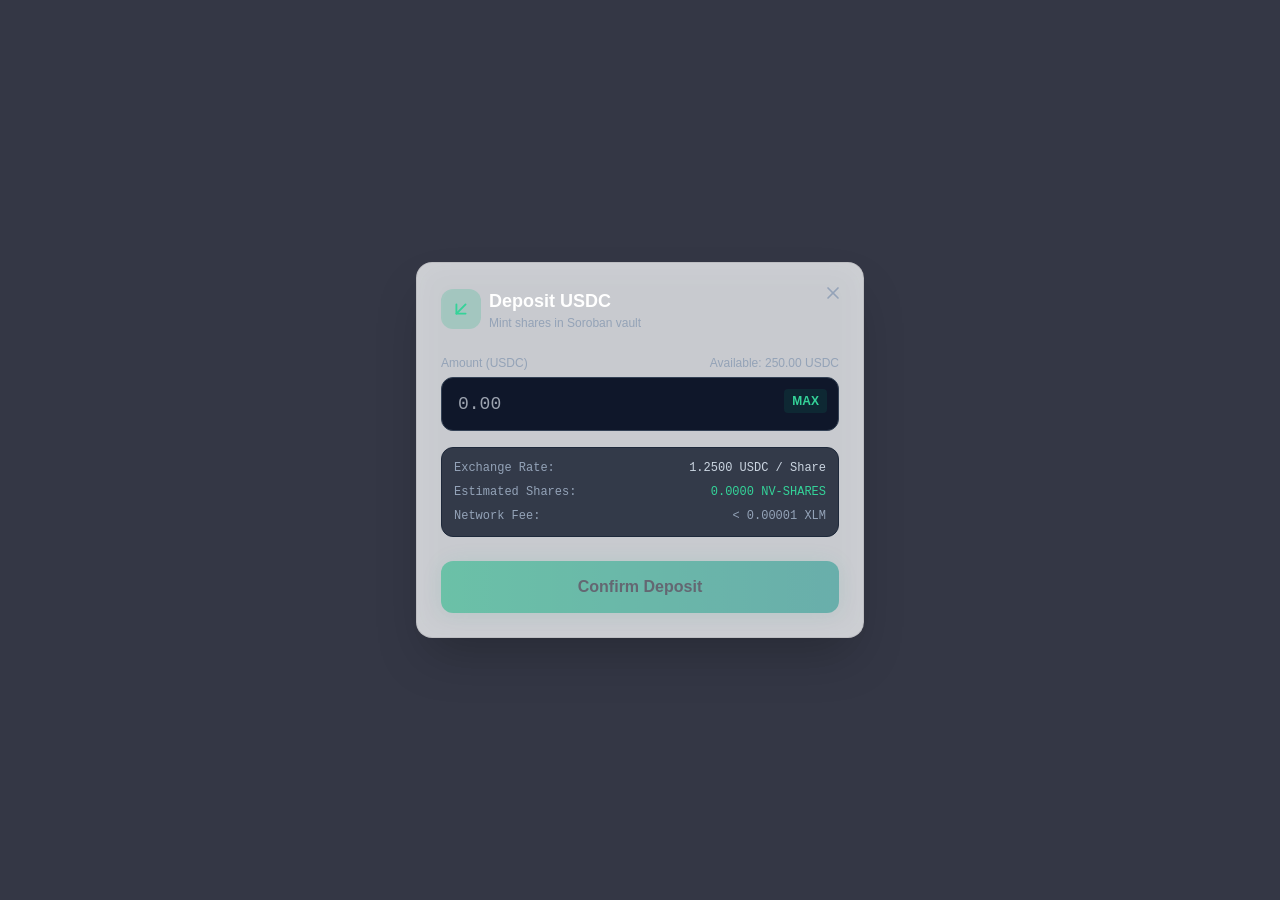
Test case: ActionModal › shows network-switch guidance for a wrong-network wallet error
Type "25" into the number field with placeholder "0.00".
click(640, 404); type("25")  # box [441, 377, 839, 431]
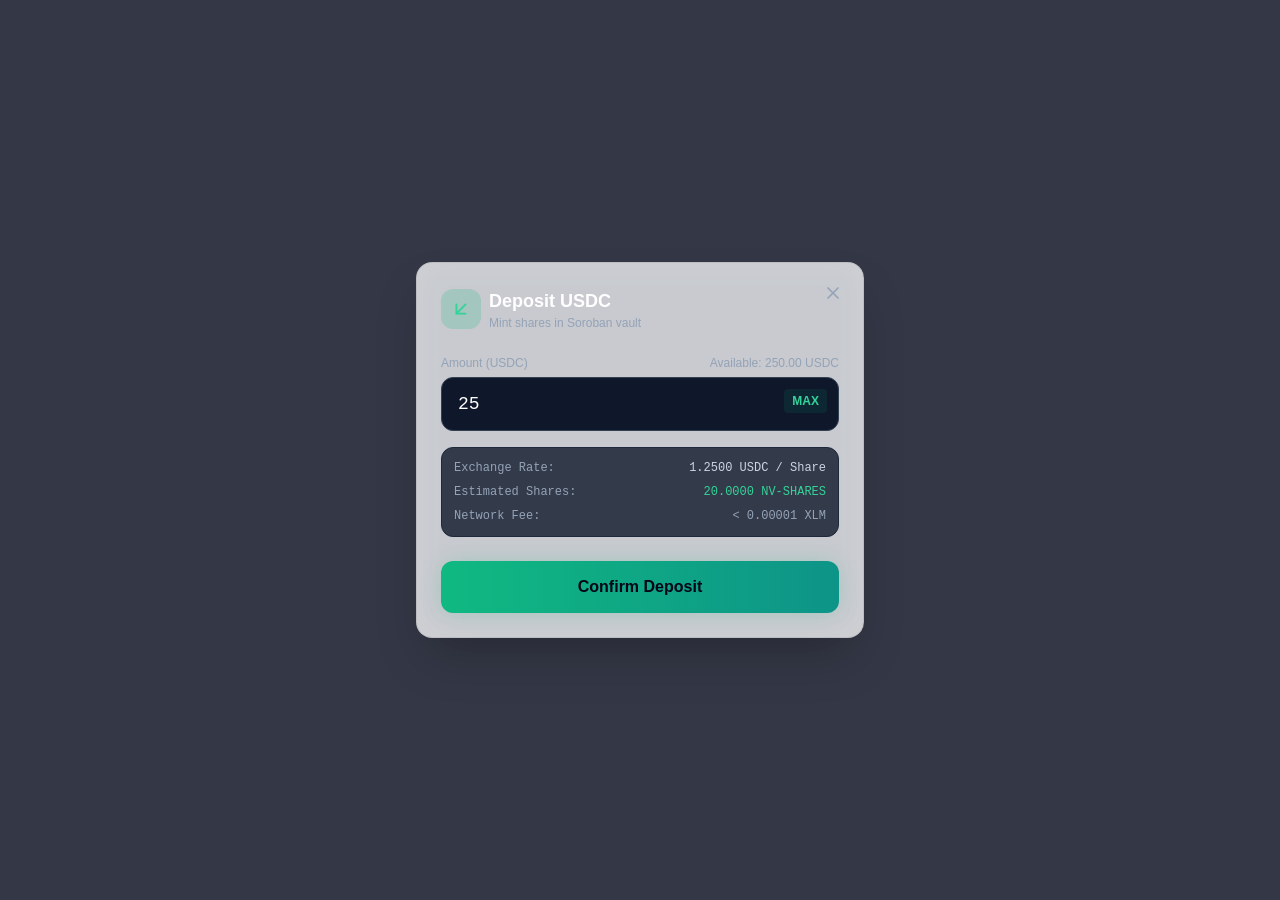
Submit the form named "confirm deposit", box [441, 287, 839, 613]
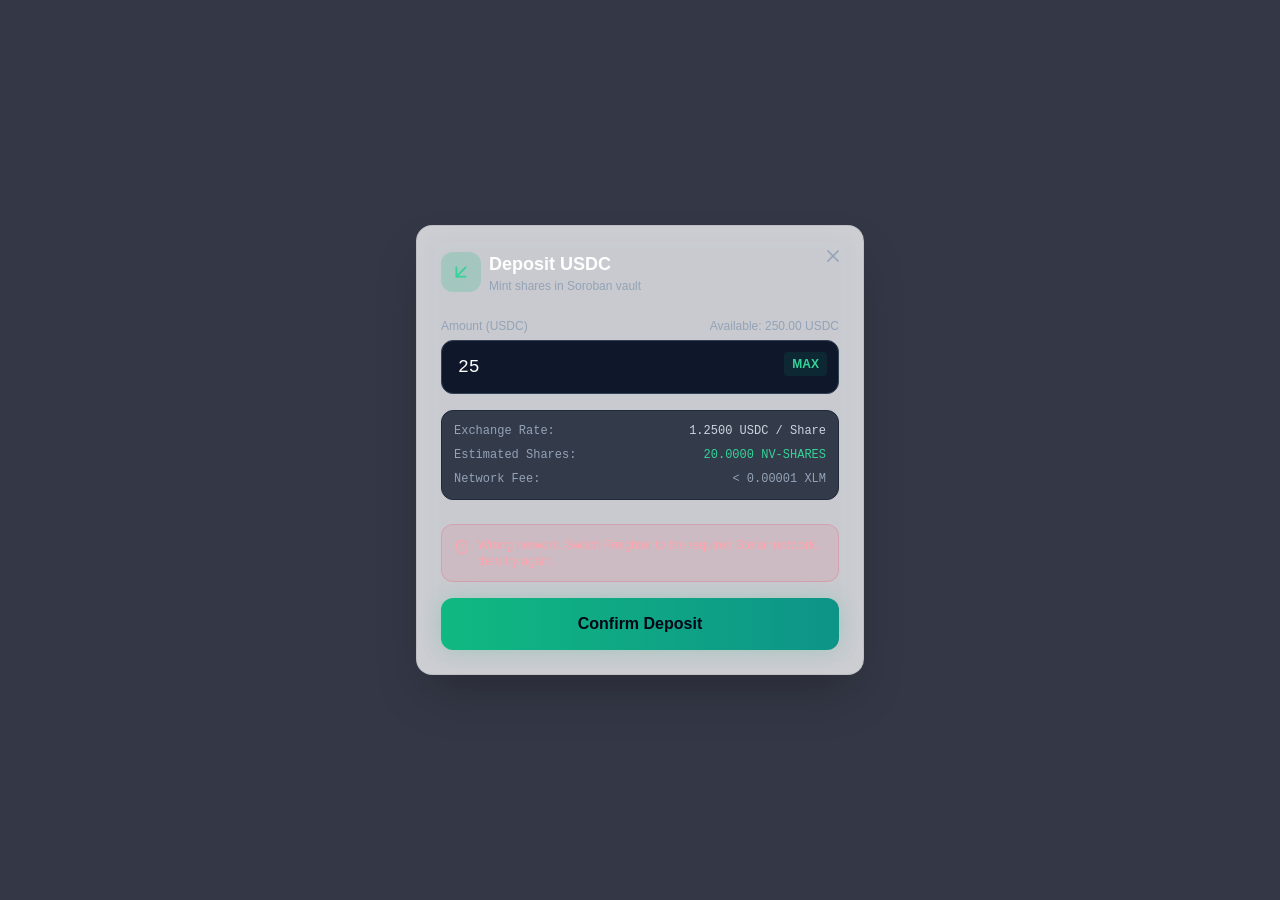
Expected: the message shows "Switch Freighter to the required", [478, 538, 819, 568]
